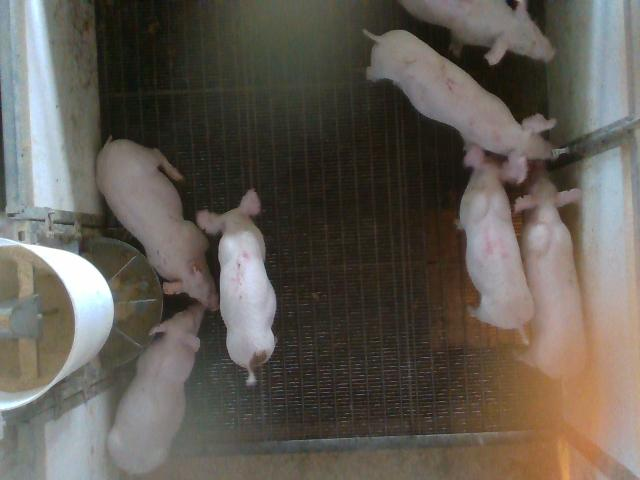pig-4: (459, 144, 534, 343)
pig-5: (196, 189, 276, 384)
